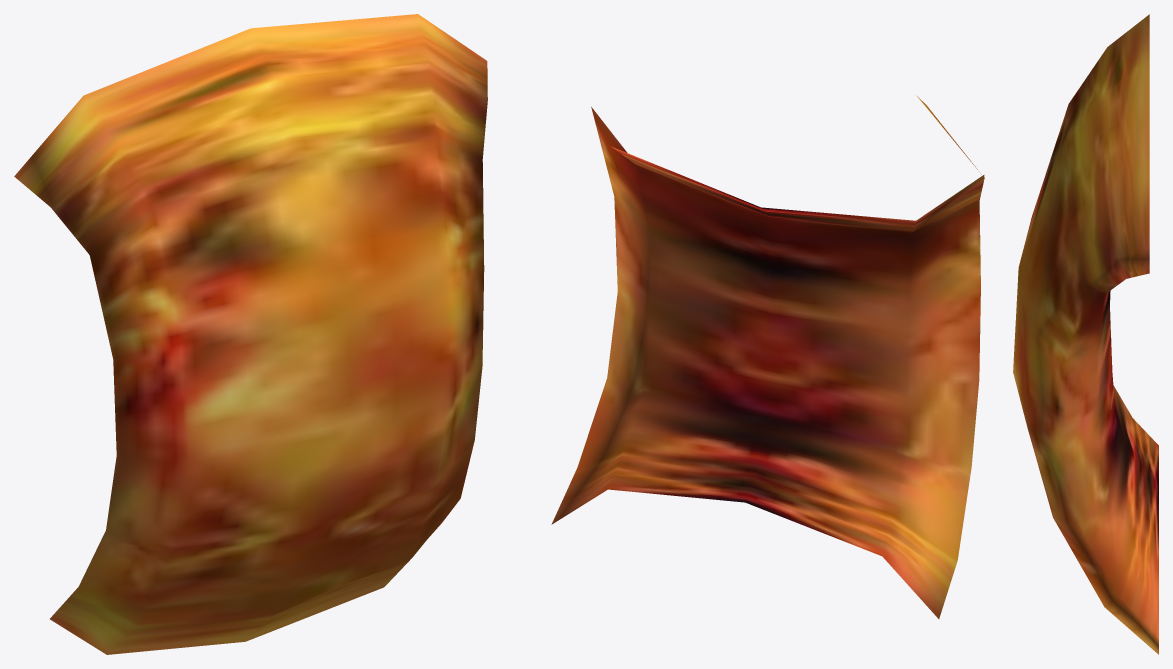
3 views of the same model, side by side, from view 1: azimuth 30°, elevation 25°; view 2: azimuth 150°, elevation 25°; view 3: azimuth 270°, elevation 25° (orthographic). The views are drawn at different scales.
Visible parts, largest first — view 1: model_Object80; view 2: model_Object80; view 3: model_Object80.
Part boxes in pixels (x1=…): model_Object80: x1=14, y1=14, x2=487, y2=654; model_Object80: x1=551, y1=95, x2=984, y2=618; model_Object80: x1=1013, y1=14, x2=1158, y2=654.
Bounding box in the file's own units: 2.05 × 2.55 × 0.6126.
1 material, 1 textured.
